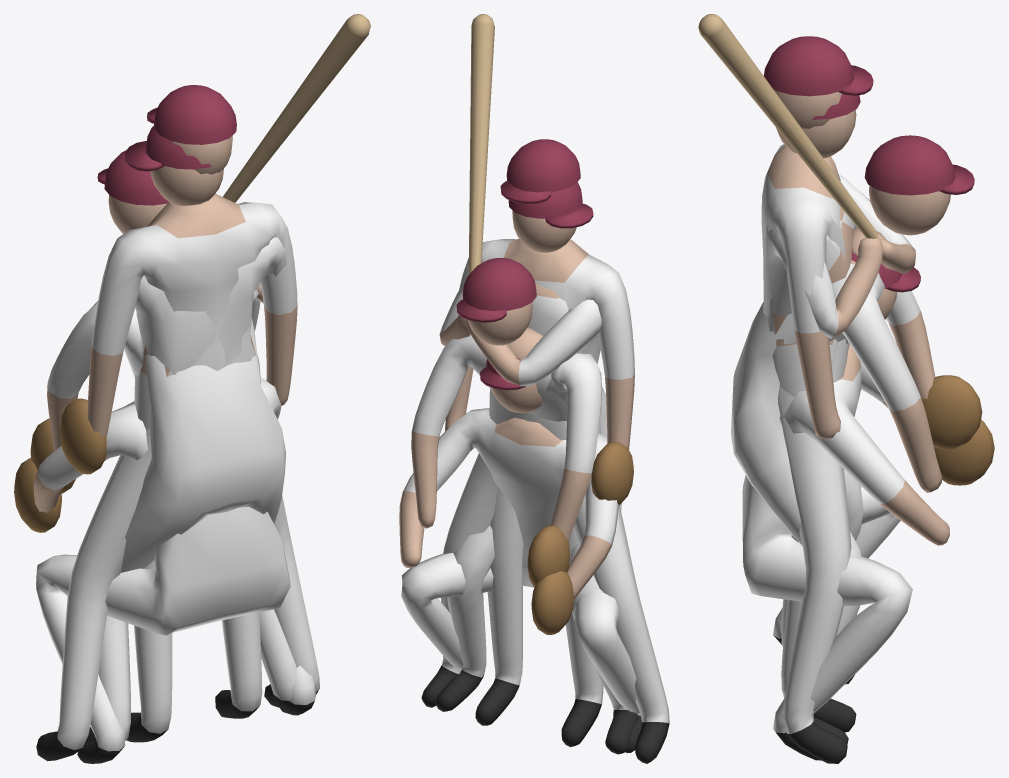
File: players.glb
3 renders of one model, left to right at view 1: azimuth 30°, elevation 25°; view 2: azimuth 150°, elevation 25°; view 3: azimuth 270°, elevation 25°, orthographic. The views are drawn at different scales.
Visible parts, largest first — view 1: pose_stand, pose_ready, pose_batter, pose_catcher; view 2: pose_ready, pose_catcher, pose_batter, pose_stand; view 3: pose_ready, pose_batter, pose_catcher, pose_stand.
Part boxes in pixels (x1,y1,x2,y2): pose_stand: (60,85,297,742); pose_ready: (30,150,296,742); pose_batter: (36,14,370,761); pose_catcher: (14,378,315,763); pose_ready: (411,258,638,754); pose_catcher: (399,358,641,753); pose_batter: (421,14,669,763); pose_stand: (445,139,634,747); pose_ready: (731,135,982,744); pose_batter: (698,14,915,763); pose_catcher: (742,248,994,760); pose_stand: (761,36,873,732).
Bounding box in the file's own units: 0.7641 × 2.01 × 0.718.
